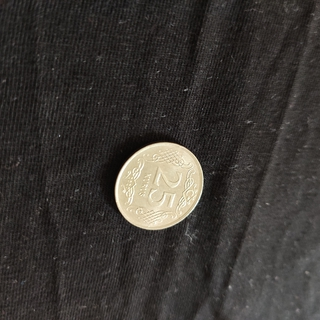25KURUS: (112, 140, 204, 231)
